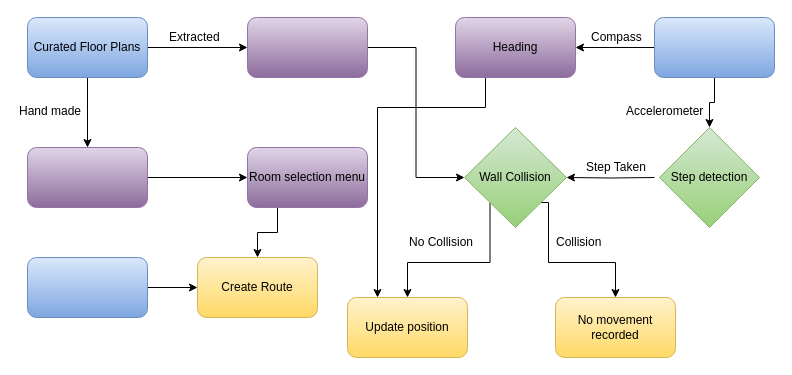
The diagram is 792 pixels wide and 375 high, and some of its shapes have lost their labels. The centre of each missing label's shape, as x and y in pixels:
"Floor plan graph" belongs at [307,47].
"Position selection on tap" belongs at [87,287].
"Room list" belongs at [87,177].
"Sensor Readings" belongs at [714,47].
